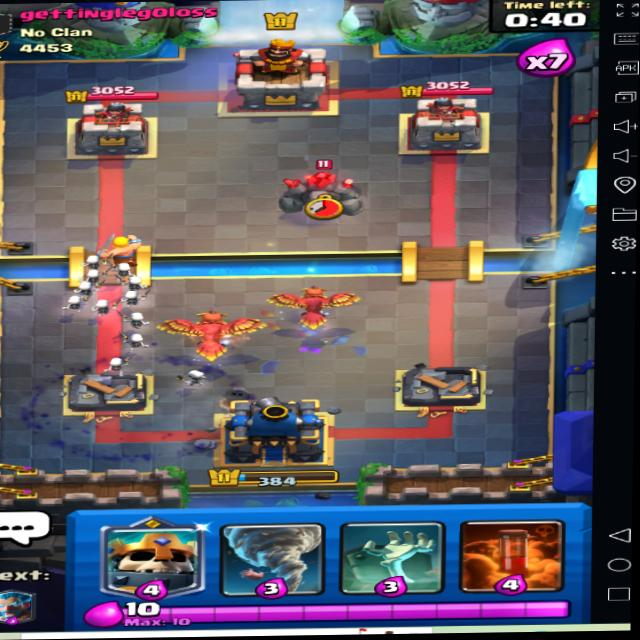golem: (269, 154, 367, 219)
